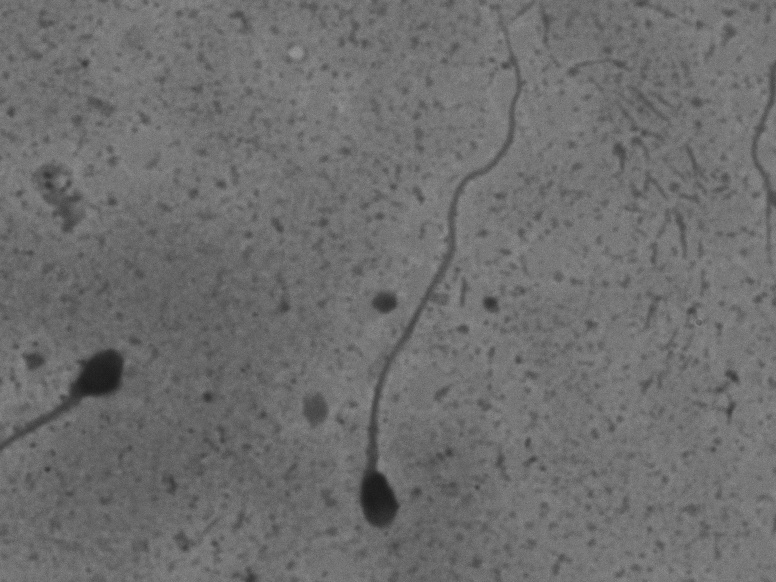Abnormal: (20, 304, 149, 496)
Normal: (327, 36, 532, 541)
